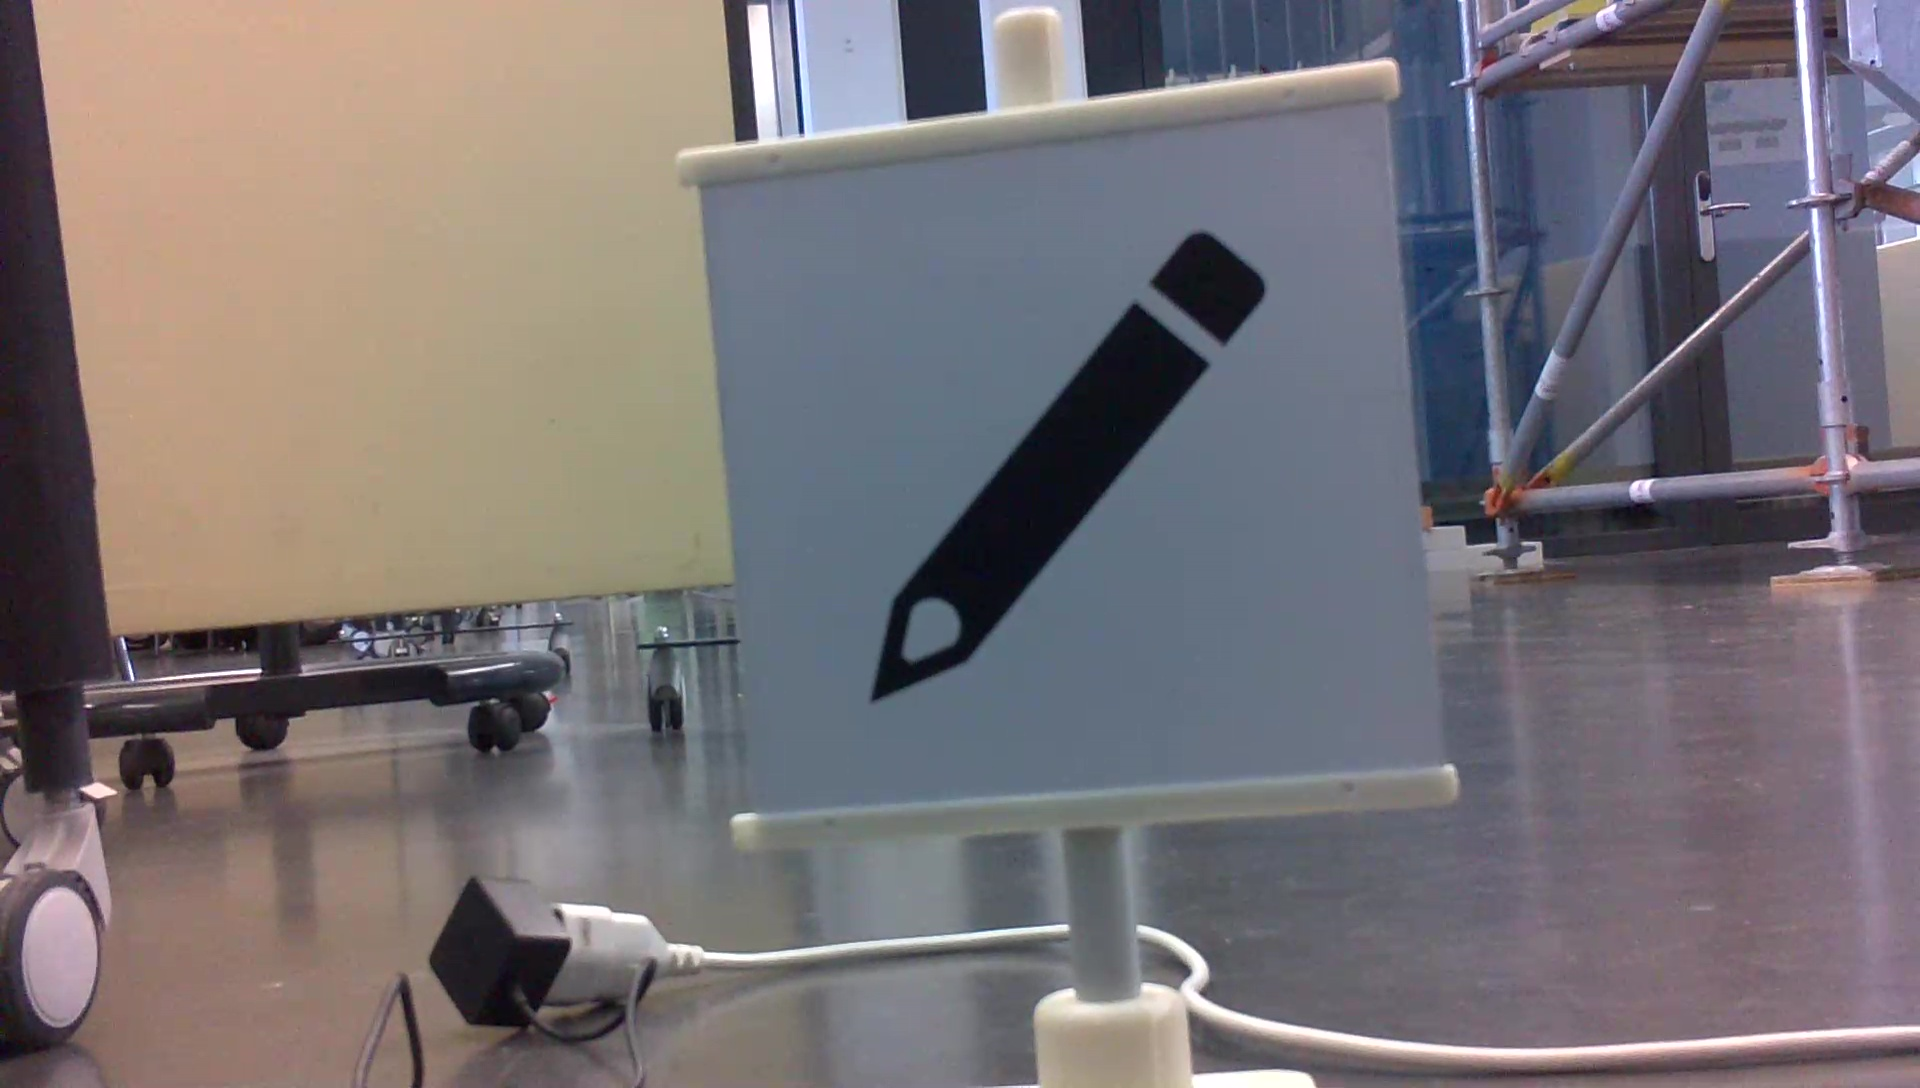pencil: (847, 214, 1288, 713)
